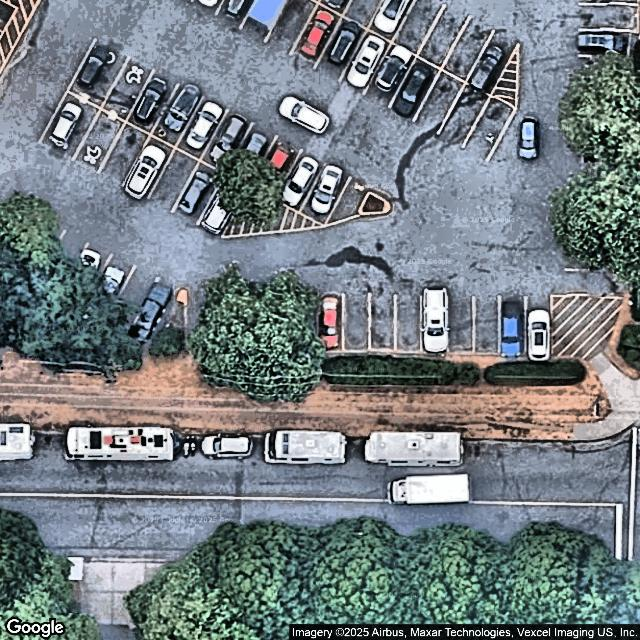car: (385, 59, 437, 124), (180, 92, 229, 157), (181, 94, 230, 159), (225, 125, 274, 189), (343, 29, 391, 94), (277, 149, 325, 214), (252, 135, 300, 200), (279, 148, 327, 213), (202, 109, 250, 174), (159, 76, 207, 141), (128, 70, 176, 135), (43, 92, 91, 157), (173, 160, 221, 225), (318, 13, 366, 78), (390, 57, 438, 122), (59, 241, 107, 306), (84, 257, 132, 322), (128, 273, 176, 338), (302, 159, 350, 223), (69, 36, 117, 100), (121, 139, 169, 203), (200, 175, 248, 239), (294, 5, 342, 69), (368, 38, 416, 102), (463, 35, 513, 96), (422, 285, 450, 354), (499, 296, 525, 360), (371, 0, 414, 37), (528, 306, 552, 364), (575, 30, 629, 55), (320, 294, 342, 350), (218, 0, 250, 23)
lot_boundary: (0, 0, 639, 360)
objects: (221, 189, 325, 239), (551, 295, 624, 361), (147, 290, 187, 349), (491, 46, 518, 108), (243, 0, 287, 35), (360, 193, 387, 214)
stall: (38, 91, 101, 163), (66, 38, 129, 110), (200, 108, 253, 175), (128, 70, 181, 137), (152, 83, 205, 150), (100, 56, 153, 123), (121, 134, 174, 201), (99, 122, 152, 189), (72, 108, 125, 175), (300, 158, 353, 225), (275, 147, 328, 214), (251, 135, 304, 202), (173, 159, 226, 226), (199, 173, 252, 240), (338, 29, 391, 96), (364, 43, 417, 110), (127, 277, 180, 344), (39, 223, 92, 290), (83, 250, 135, 318), (314, 16, 367, 82), (289, 3, 342, 69), (439, 84, 492, 150), (462, 97, 515, 163), (417, 4, 470, 70), (441, 17, 494, 83), (18, 204, 71, 270), (147, 147, 199, 214), (176, 95, 228, 162), (228, 123, 280, 190), (390, 57, 442, 124), (467, 28, 519, 95), (413, 69, 465, 135), (106, 266, 156, 332), (62, 238, 112, 303), (392, 0, 446, 54), (265, 0, 316, 51), (327, 173, 372, 225), (368, 0, 414, 42), (578, 3, 640, 30), (573, 84, 635, 111), (574, 58, 636, 85), (569, 110, 631, 137), (564, 186, 625, 213), (563, 214, 624, 241), (562, 242, 623, 269), (561, 270, 622, 297), (576, 31, 638, 57), (565, 159, 626, 185), (370, 294, 395, 351), (343, 293, 368, 350), (423, 294, 448, 351), (449, 296, 474, 353), (474, 296, 499, 353), (526, 298, 551, 355), (317, 293, 342, 350), (398, 295, 422, 353), (500, 297, 524, 354), (570, 139, 630, 158), (214, 0, 255, 27), (344, 0, 380, 26)
